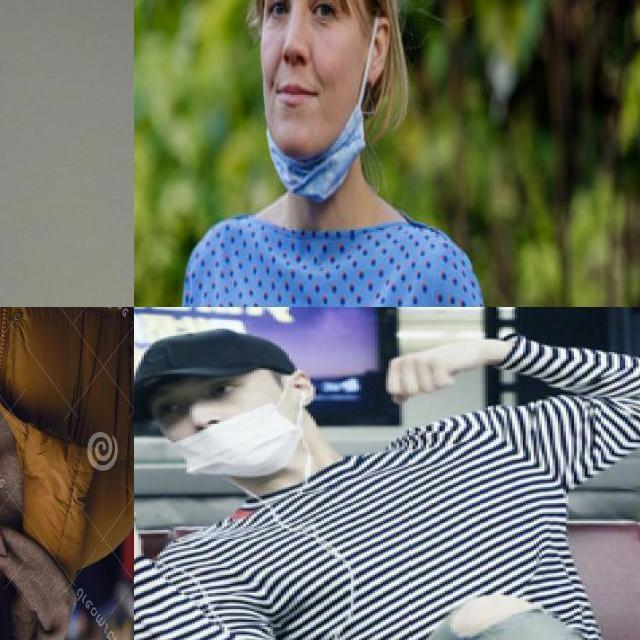hairnet: (261, 44, 375, 200), (171, 398, 292, 474)
